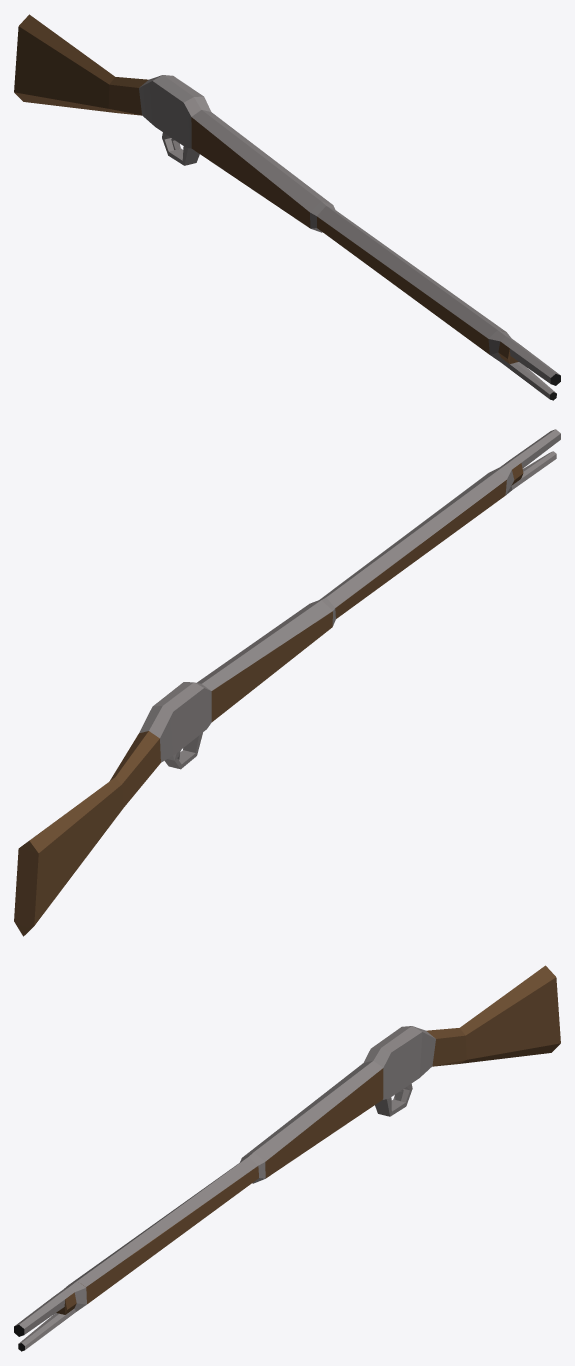
Rendered from zulu_rifle-british.fbx.
3 views of the same model, one above another, from view 1: azimuth 30°, elevation 25°; view 2: azimuth 150°, elevation 25°; view 3: azimuth 330°, elevation 25° (orthographic).
Parts seen in each view (by area): view 1: zulu_rifle_british; view 2: zulu_rifle_british; view 3: zulu_rifle_british.
Part boxes in pixels (box(x1,y1,x2,y2)): zulu_rifle_british: box(14, 14, 560, 400); zulu_rifle_british: box(14, 429, 560, 936); zulu_rifle_british: box(14, 965, 560, 1351).
Bounding box in the file's own units: 5.13 × 26.88 × 200.
